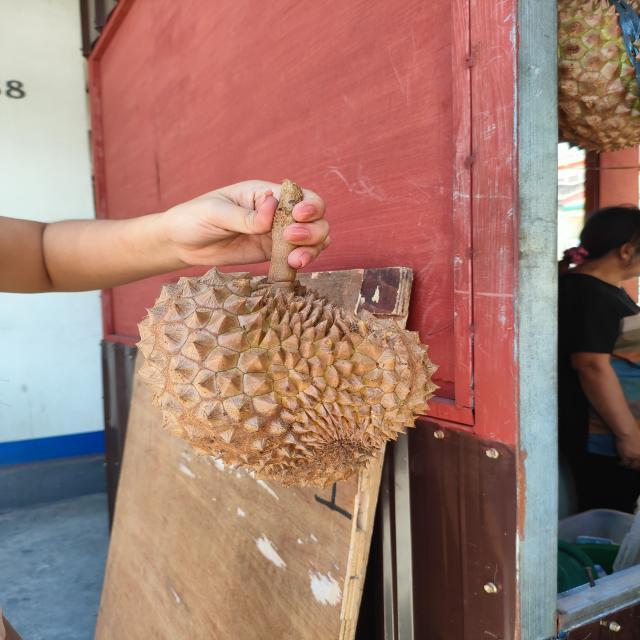mature: (134, 267, 441, 491)
